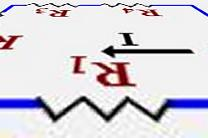resistor: (22, 86, 170, 129), (98, 0, 151, 6), (27, 0, 80, 6)
